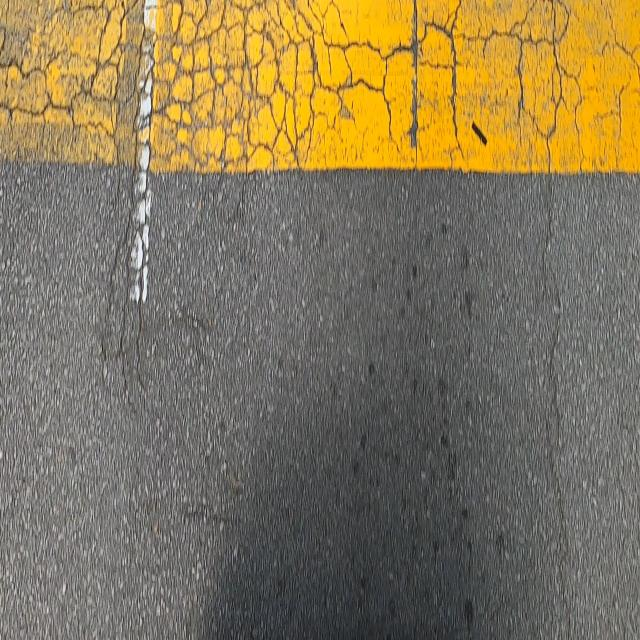Retak-Buaya: (0, 1, 640, 419)
Retak-Memanjang: (542, 178, 567, 438)
